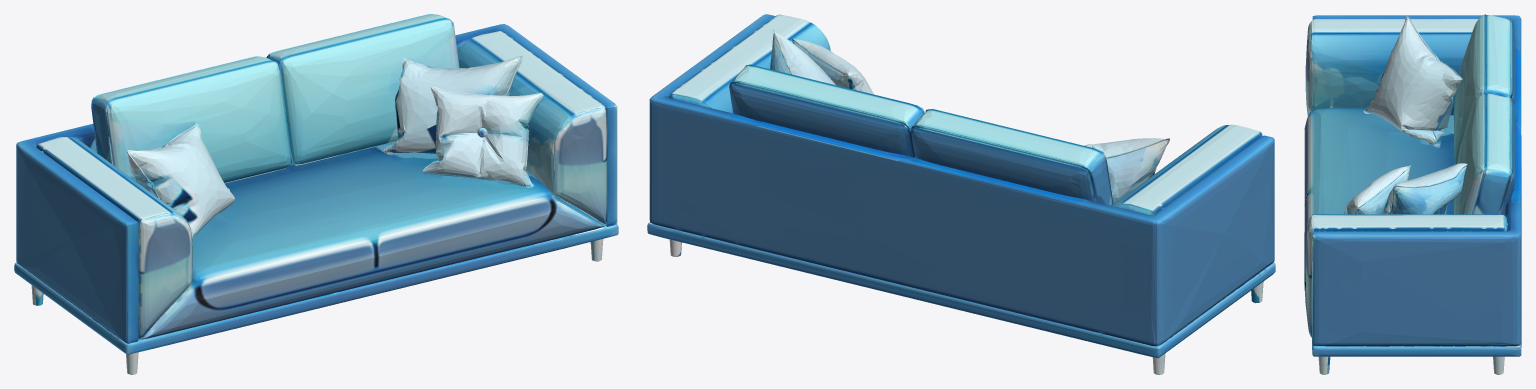
File: edited_mesh.glb
3 renders of one model, left to right at view 1: azimuth 30°, elevation 25°; view 2: azimuth 150°, elevation 25°; view 3: azimuth 270°, elevation 25°, orthographic. The views are drawn at different scales.
Parts seen in each view (by area): view 1: solid_001_wire; view 2: solid_001_wire; view 3: solid_001_wire.
Boxes of the visible parts, x1=… form: solid_001_wire: x1=14, y1=14, x2=618, y2=374; solid_001_wire: x1=647, y1=14, x2=1275, y2=374; solid_001_wire: x1=1304, y1=14, x2=1521, y2=374.
Bounding box in the file's own units: 2 × 0.7464 × 0.8192.
Materials: 1 (1 with a texture image).
